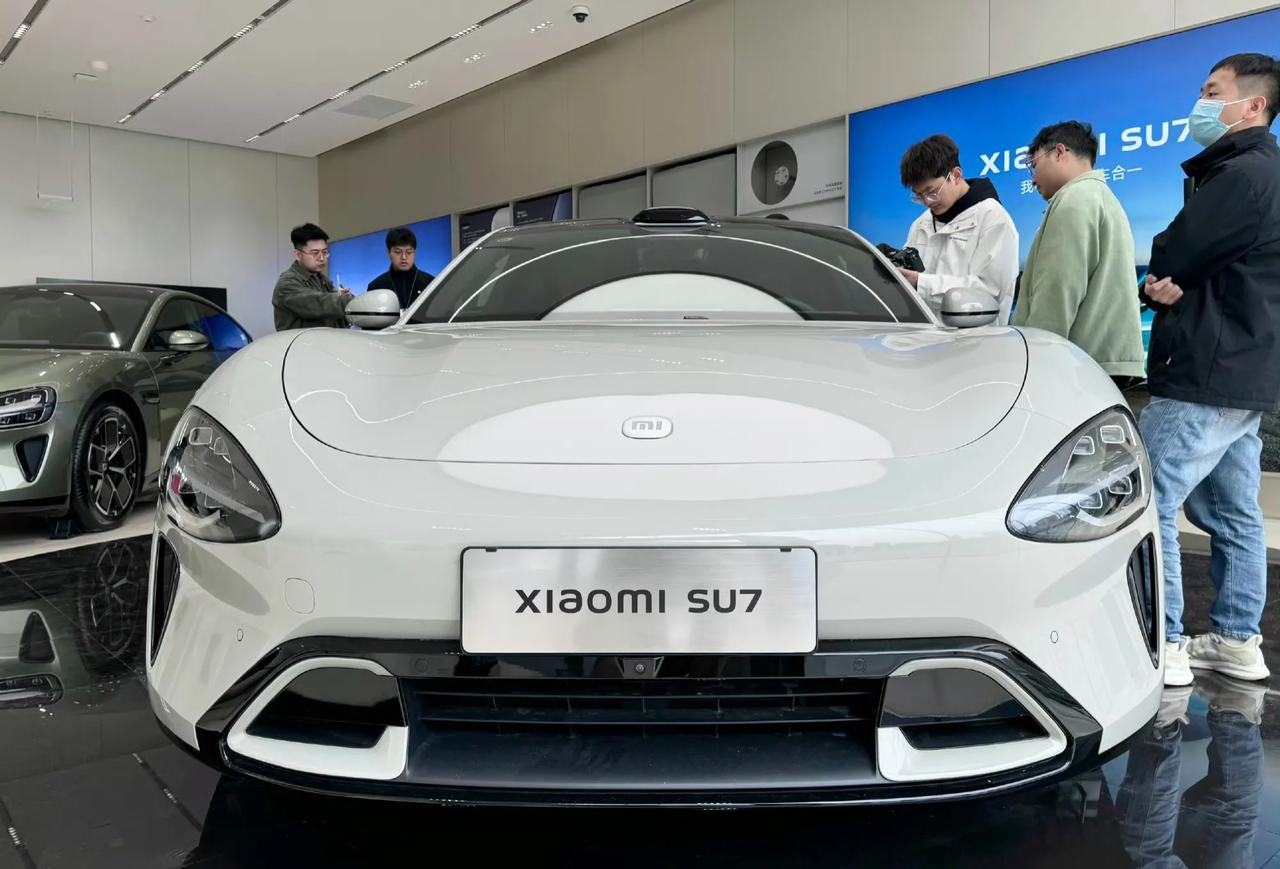su7: (166, 213, 1164, 827), (2, 274, 274, 540)
